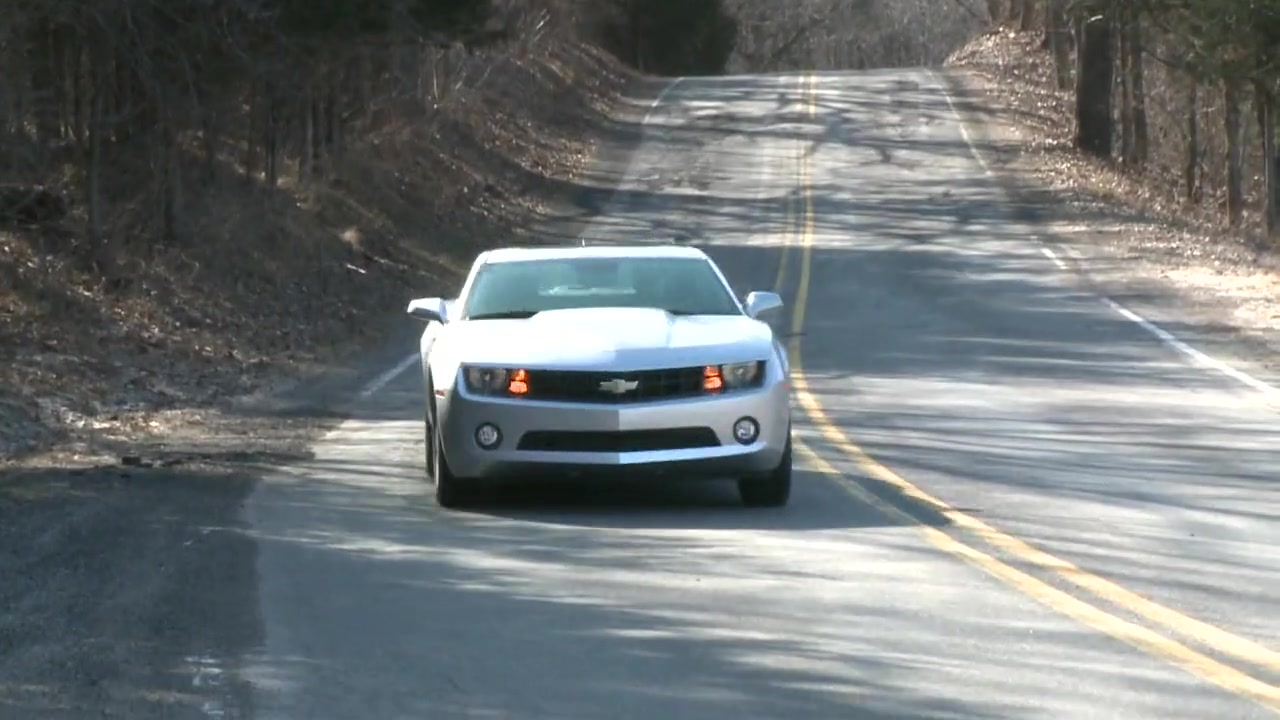car: (408, 241, 799, 511)
